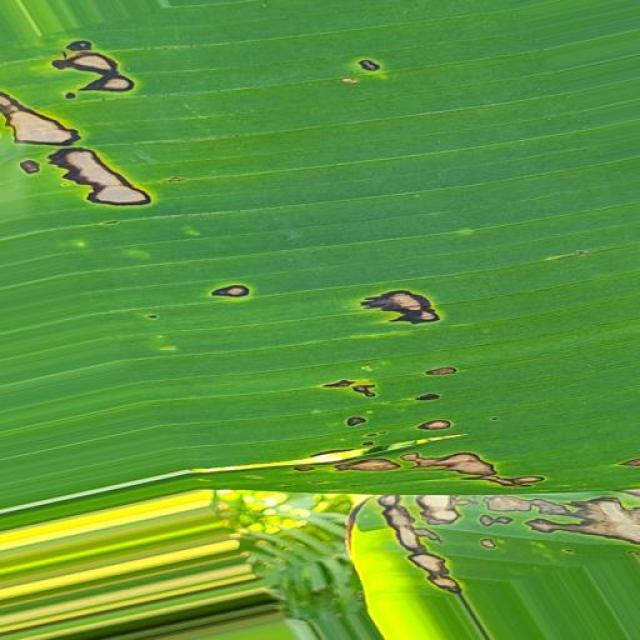Early_rust: (290, 283, 640, 605), (0, 13, 169, 227), (341, 14, 395, 97), (209, 263, 261, 318)
